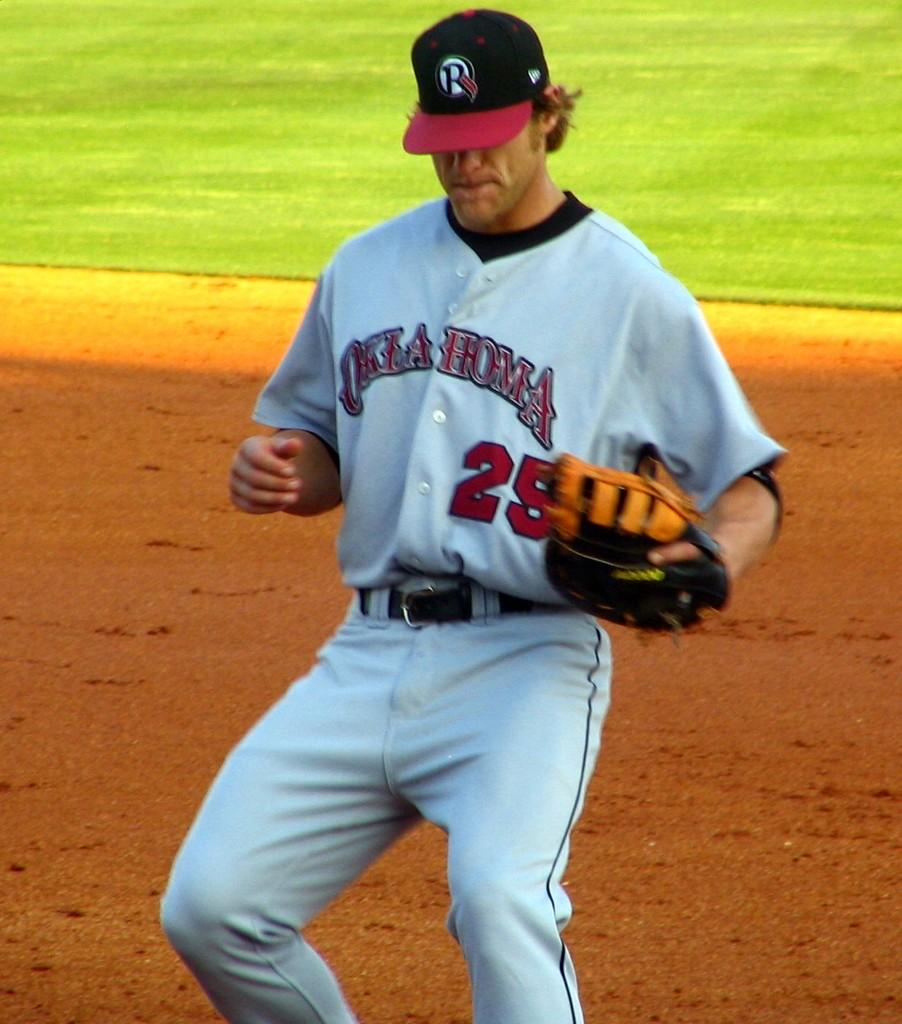Hat: (400, 9, 552, 153)
